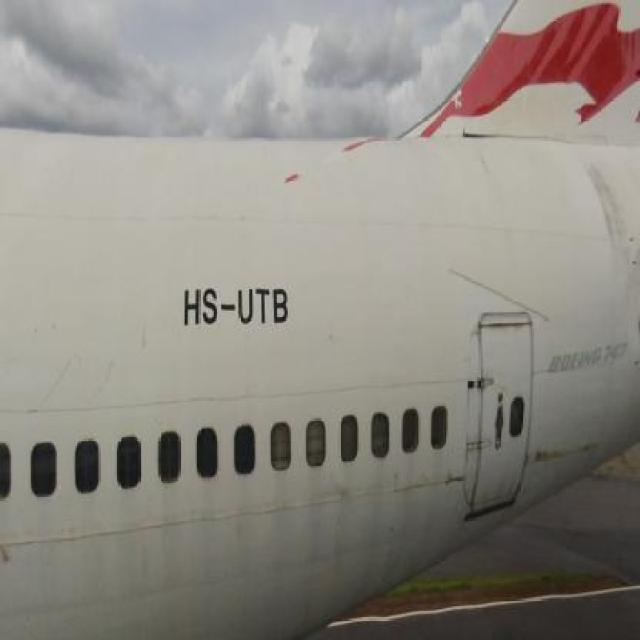Rust: (587, 153, 633, 272), (525, 434, 607, 466), (480, 314, 534, 338)
Scartch: (316, 486, 370, 529), (428, 466, 468, 497), (0, 535, 18, 576)
